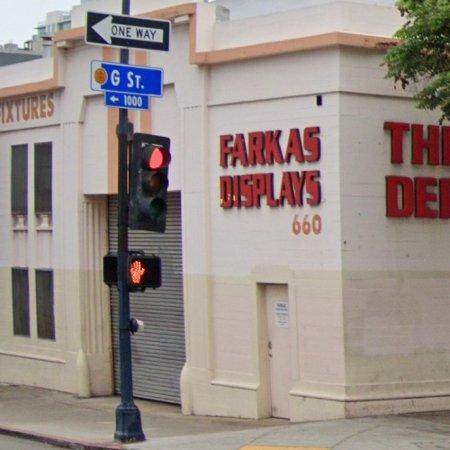traffic lights: (129, 133, 170, 233)
